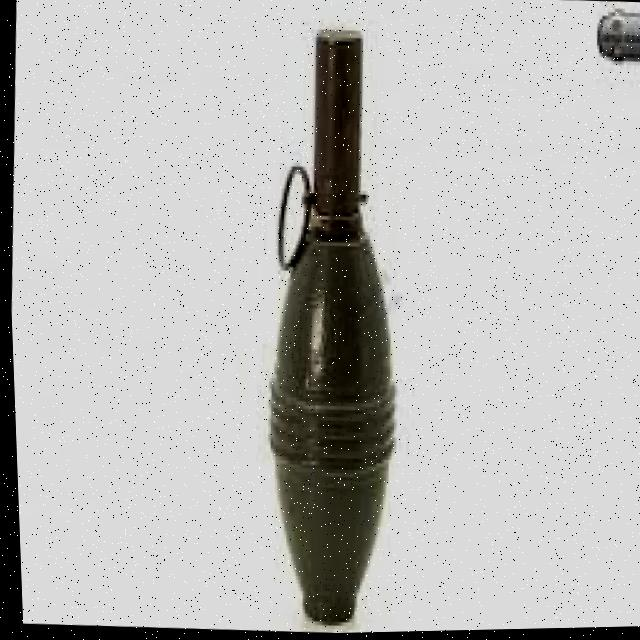grenade: (232, 25, 424, 634)
